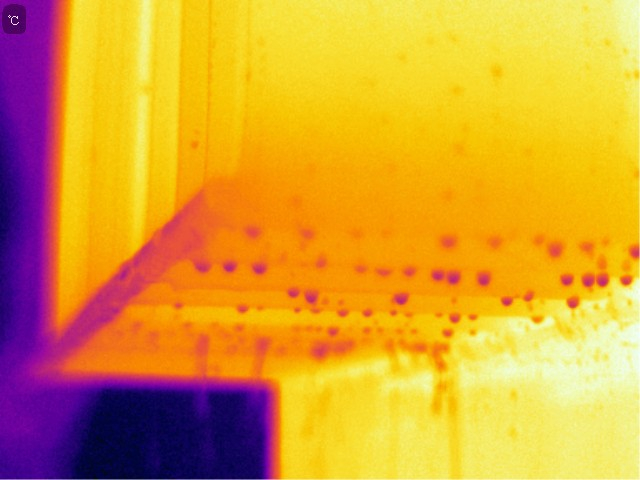Water: (529, 231, 576, 260), (433, 230, 462, 251), (561, 294, 588, 313), (398, 260, 421, 281), (392, 289, 416, 308), (472, 269, 496, 288), (227, 300, 255, 316), (250, 259, 273, 278), (191, 255, 211, 275), (427, 266, 447, 286), (447, 267, 463, 292), (220, 258, 242, 275), (522, 284, 539, 304), (496, 294, 518, 308), (556, 271, 576, 286), (597, 271, 612, 291), (305, 286, 321, 304), (619, 272, 637, 287), (581, 271, 595, 290), (324, 323, 343, 337), (526, 315, 550, 326), (360, 306, 377, 320), (282, 287, 300, 300), (438, 327, 461, 337), (375, 265, 394, 276), (449, 309, 462, 322), (337, 309, 352, 319)
